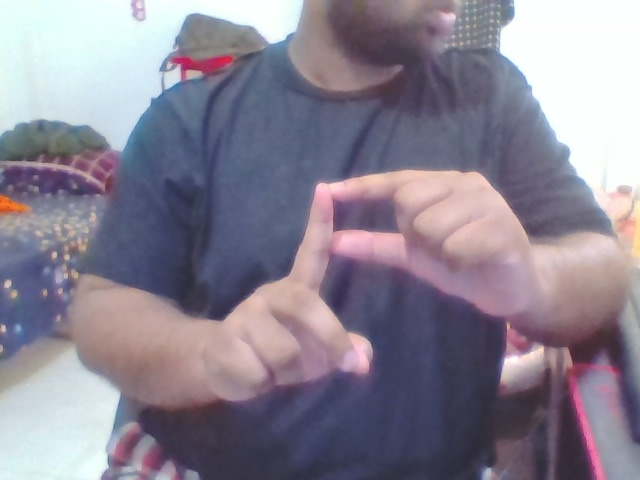P: (208, 162, 551, 419)
